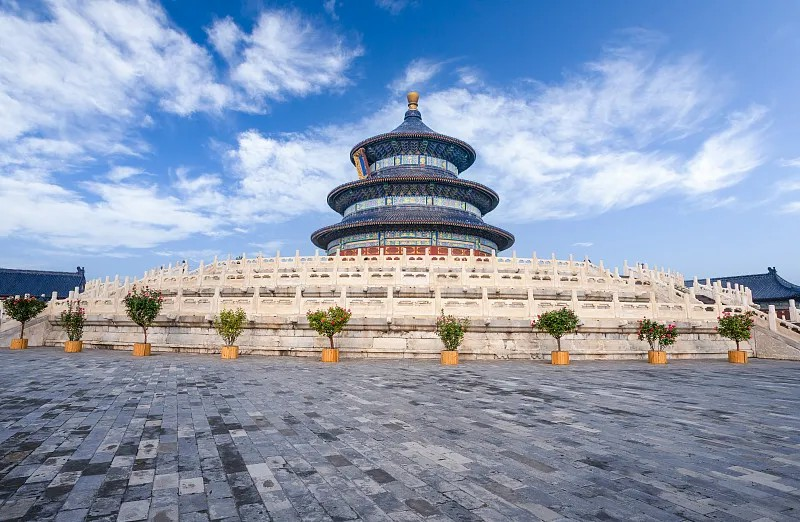Heaven: (309, 90, 515, 260)
